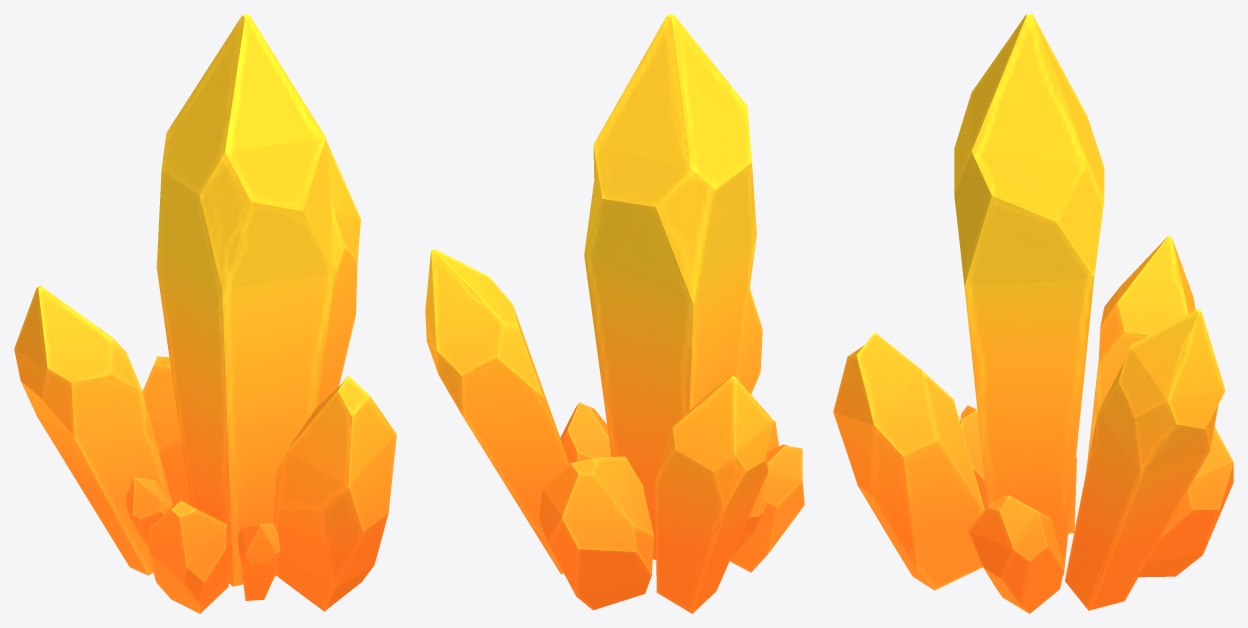
The model's file is SM_Stylized_Crystal_02_CrystalB.fbx.
3 renders of one model, left to right at view 1: azimuth 30°, elevation 25°; view 2: azimuth 150°, elevation 25°; view 3: azimuth 270°, elevation 25°, orthographic. The views are drawn at different scales.
Parts seen in each view (by area): view 1: SM_Stylized_Crystal_02_CrystalB_LOD0; view 2: SM_Stylized_Crystal_02_CrystalB_LOD0; view 3: SM_Stylized_Crystal_02_CrystalB_LOD0.
Boxes of the visible parts, x1,y1,x2,y2 form: SM_Stylized_Crystal_02_CrystalB_LOD0: (14, 14, 396, 613); SM_Stylized_Crystal_02_CrystalB_LOD0: (425, 14, 804, 613); SM_Stylized_Crystal_02_CrystalB_LOD0: (833, 14, 1233, 613).
Bounding box in the file's own units: 12.53 × 13.01 × 20.18.
